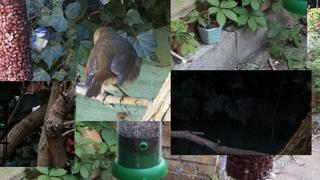blue tit: (26, 27, 49, 60)
robin: (84, 27, 144, 106)
